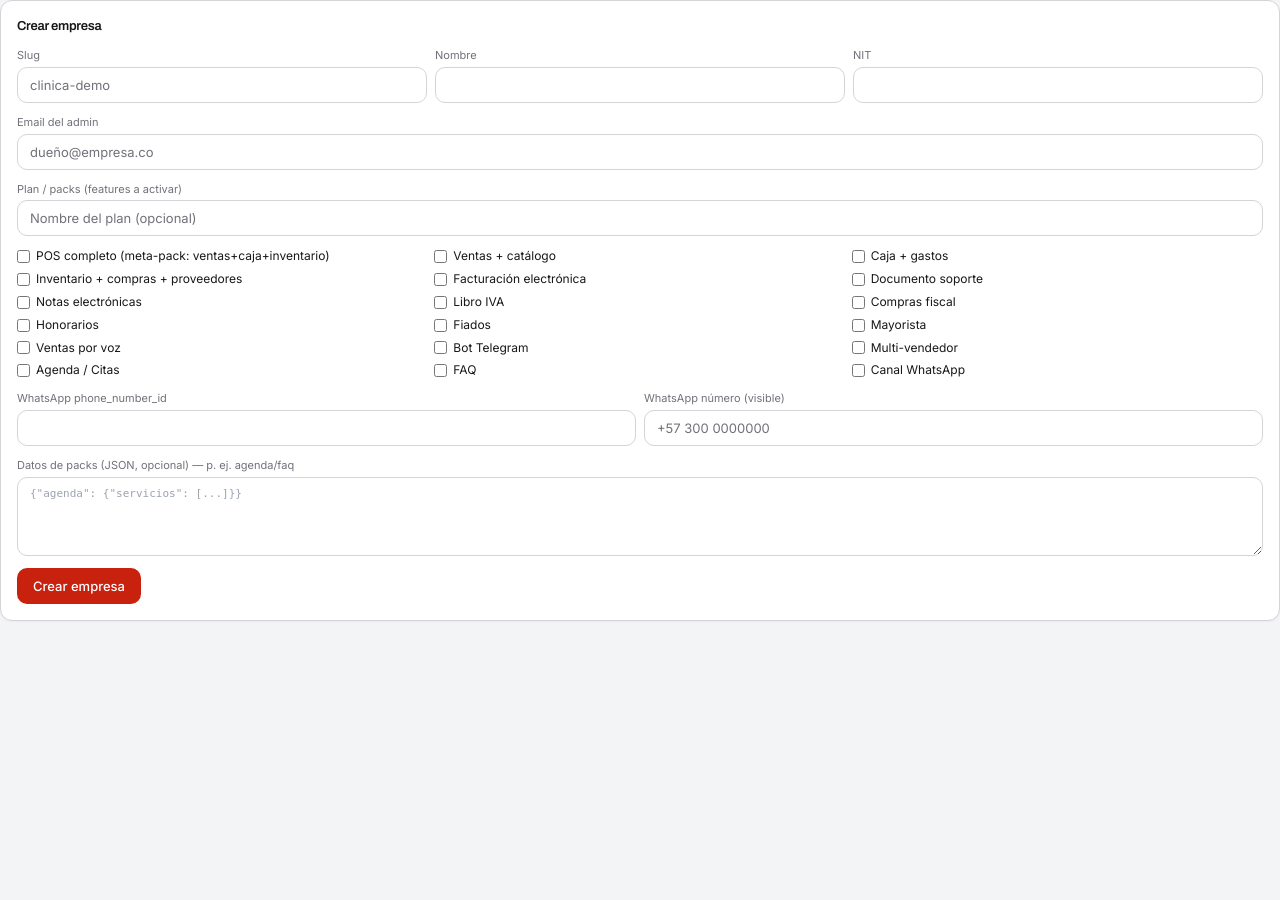
CrearTenantForm (arma manifiesto + encola + polling) › arma el manifiesto, postea a /admin/tenants y al hacer polling muestra ok + resumen
Type "clinica-x" into the field labelled "Slug" at (222, 85), box x1=17 y1=67 x2=427 y2=103
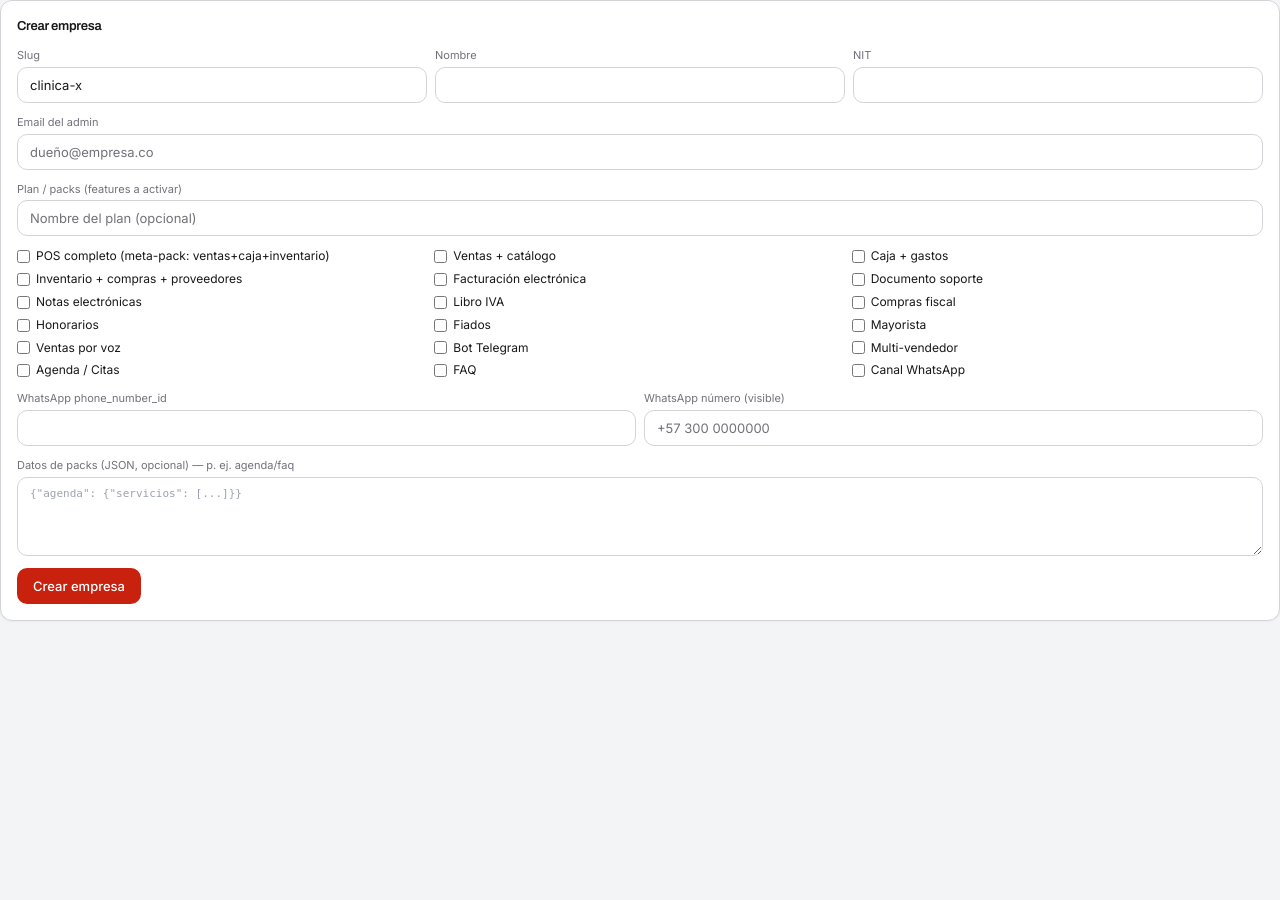
Type "Clínica X" into the field labelled "Nombre" at (640, 85), box x1=435 y1=67 x2=845 y2=103
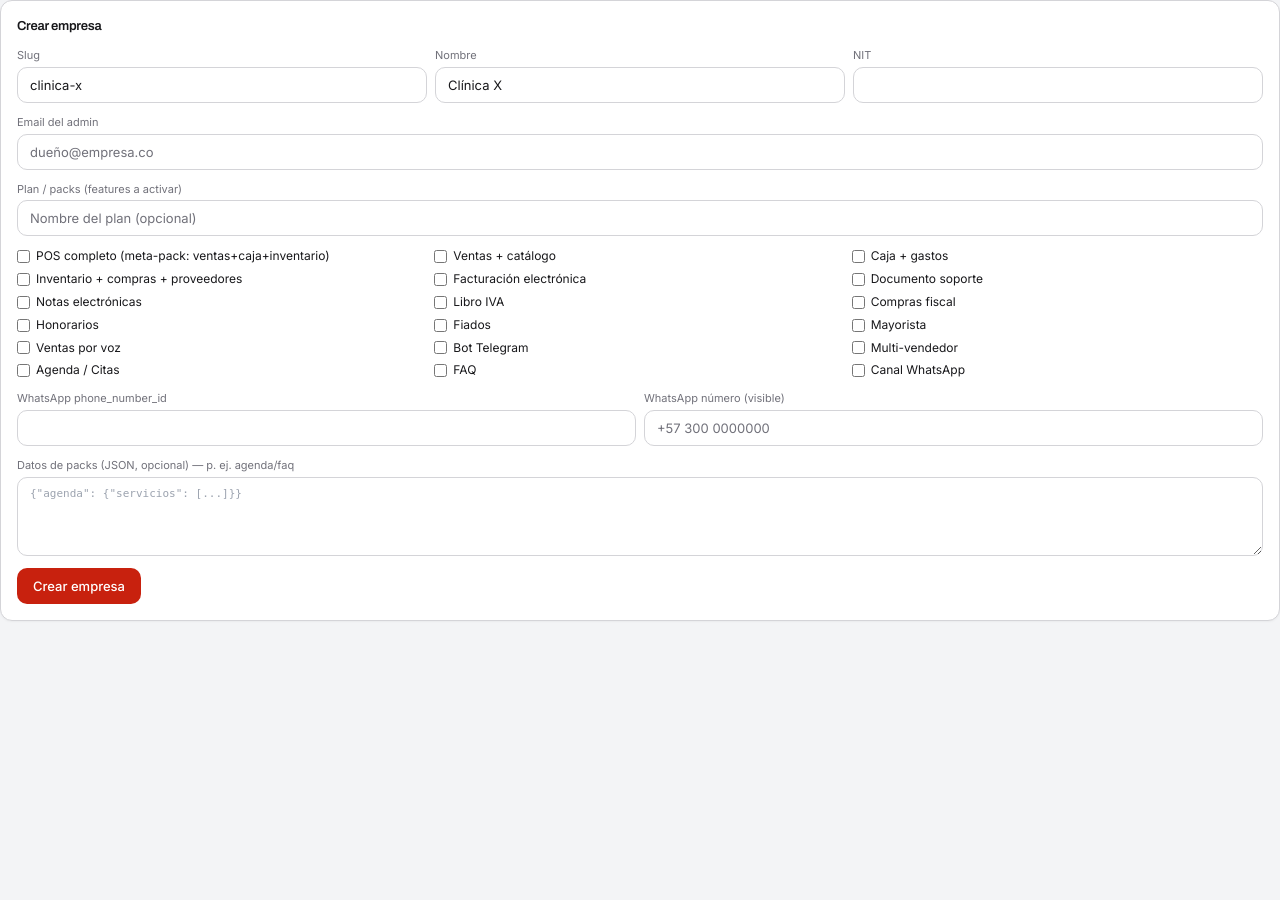
Type "NIT-9" into the field labelled "NIT" at (1058, 85), box x1=853 y1=67 x2=1263 y2=103
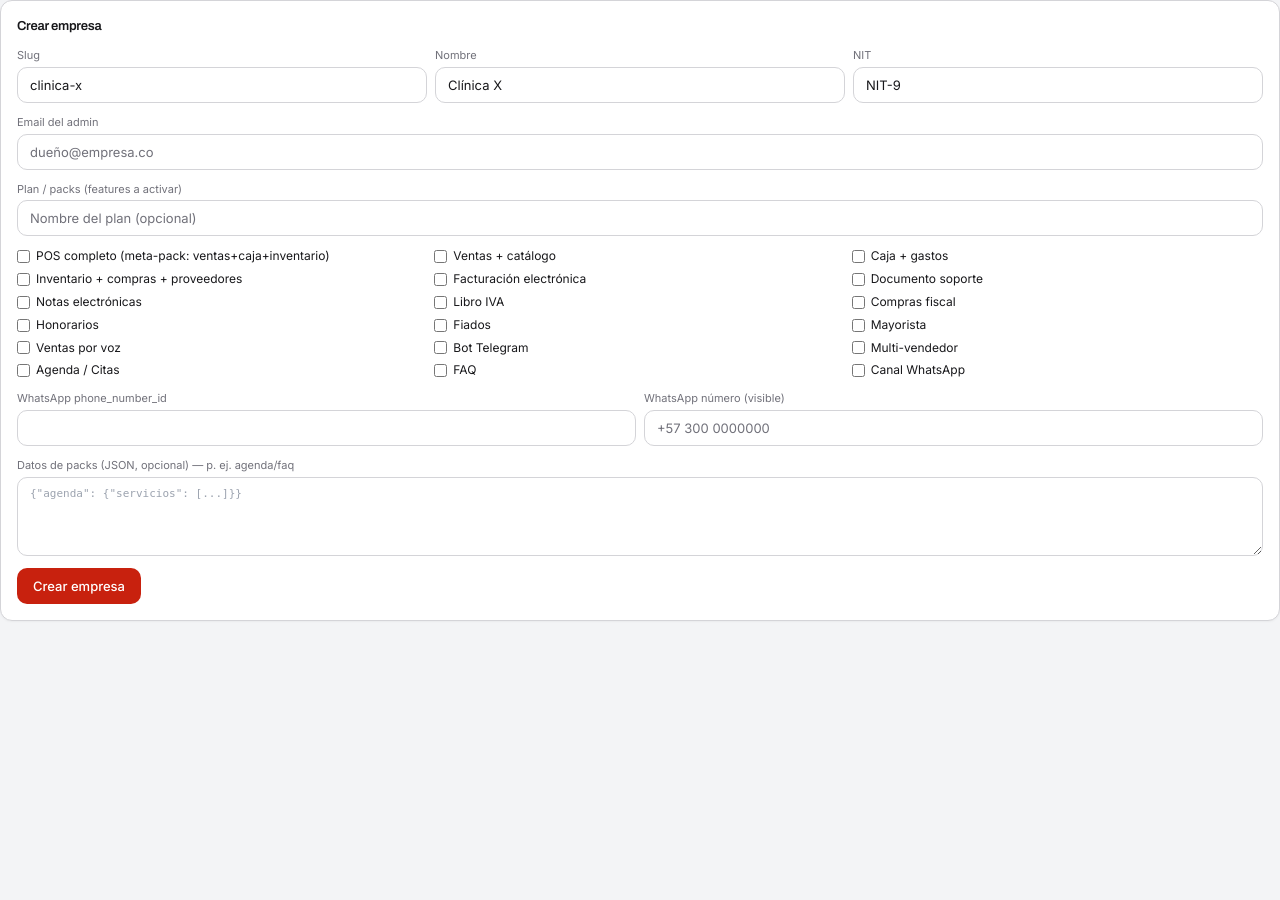
Type "due@x.co" into the field labelled "Email del admin" at (640, 152), box x1=17 y1=134 x2=1263 y2=170
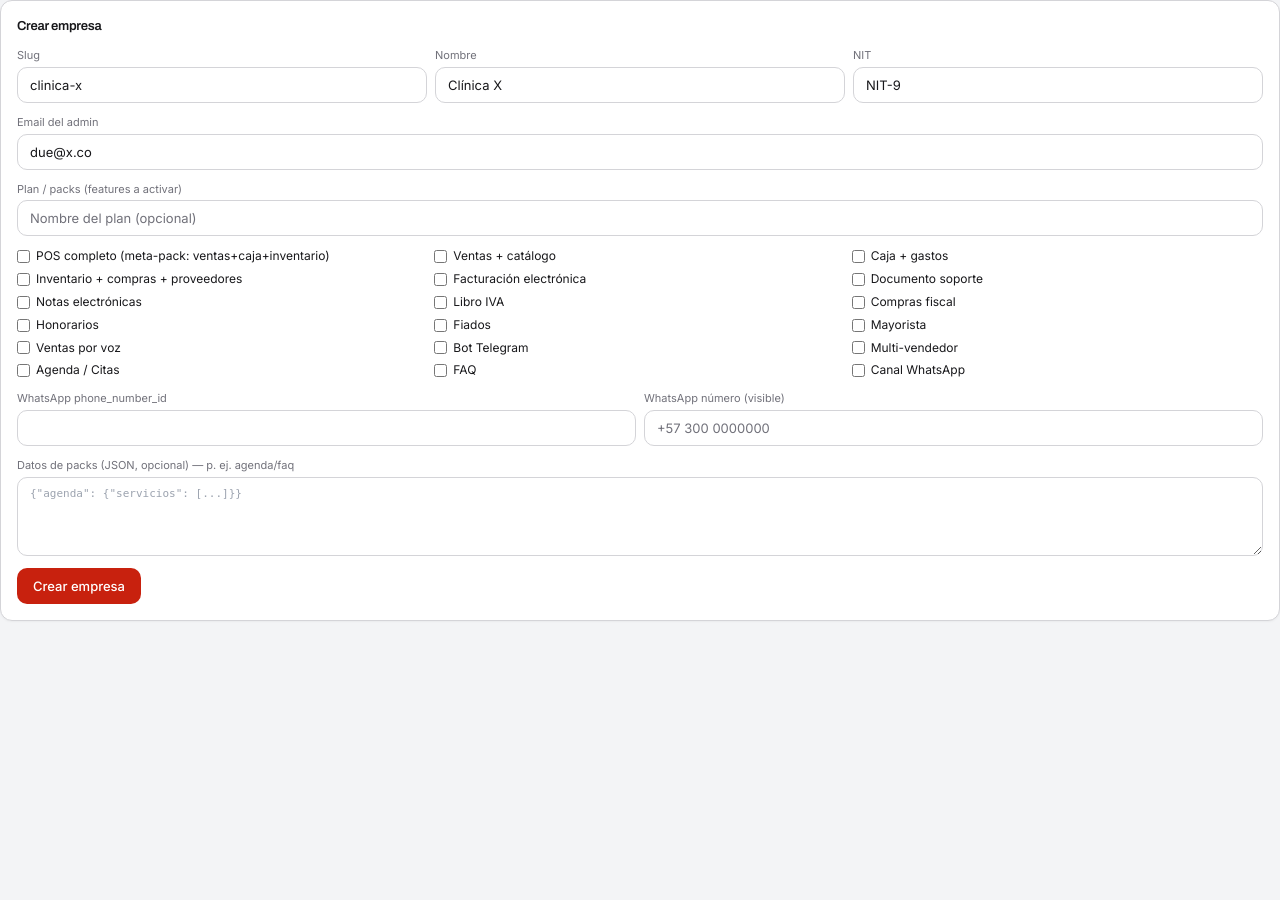
Click the checkbox labelled "POS completo (meta-pack: ventas+caja+inventario)" at (24, 257), box x1=17 y1=250 x2=30 y2=263
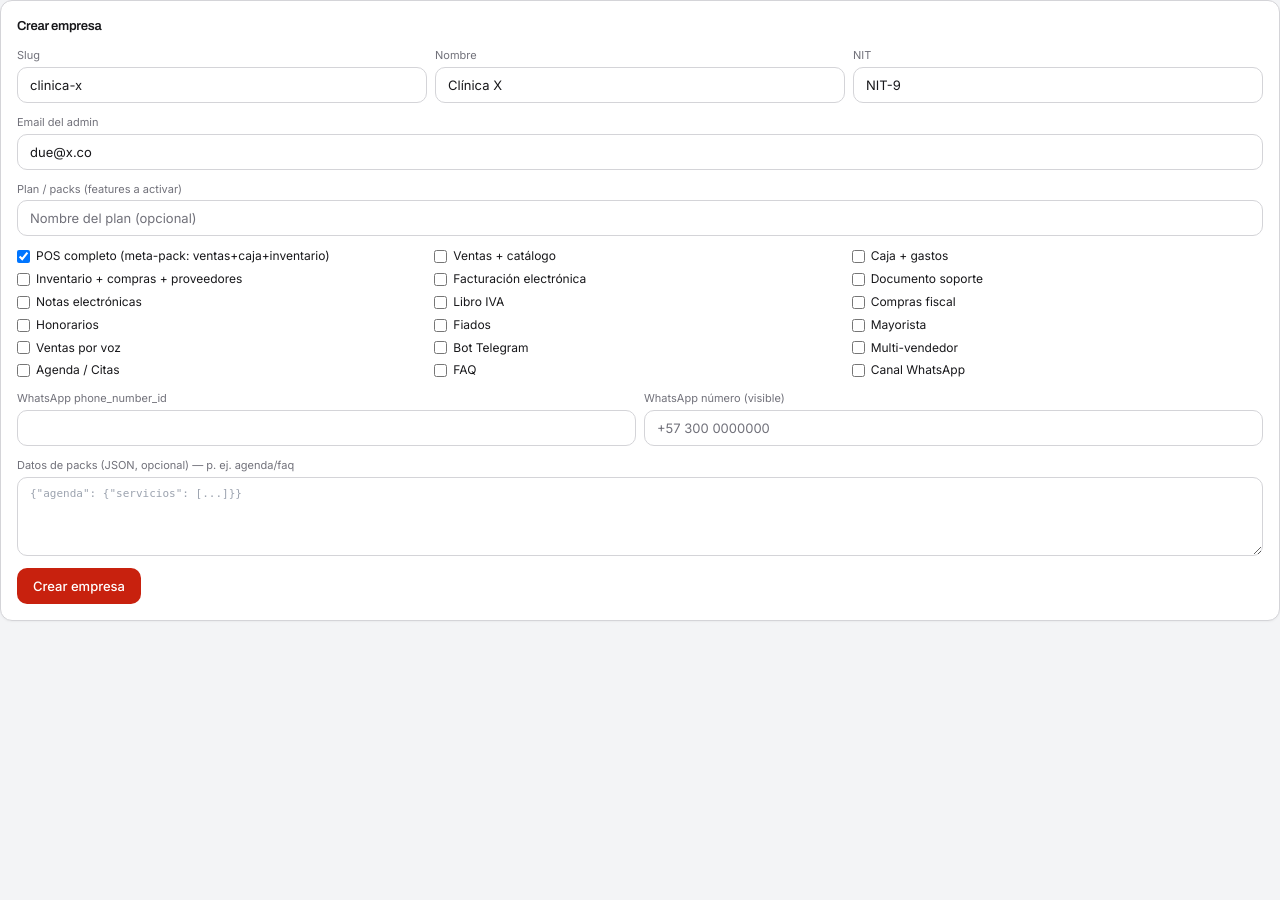
Click the button "Crear empresa" at (79, 586), box x1=17 y1=568 x2=141 y2=604
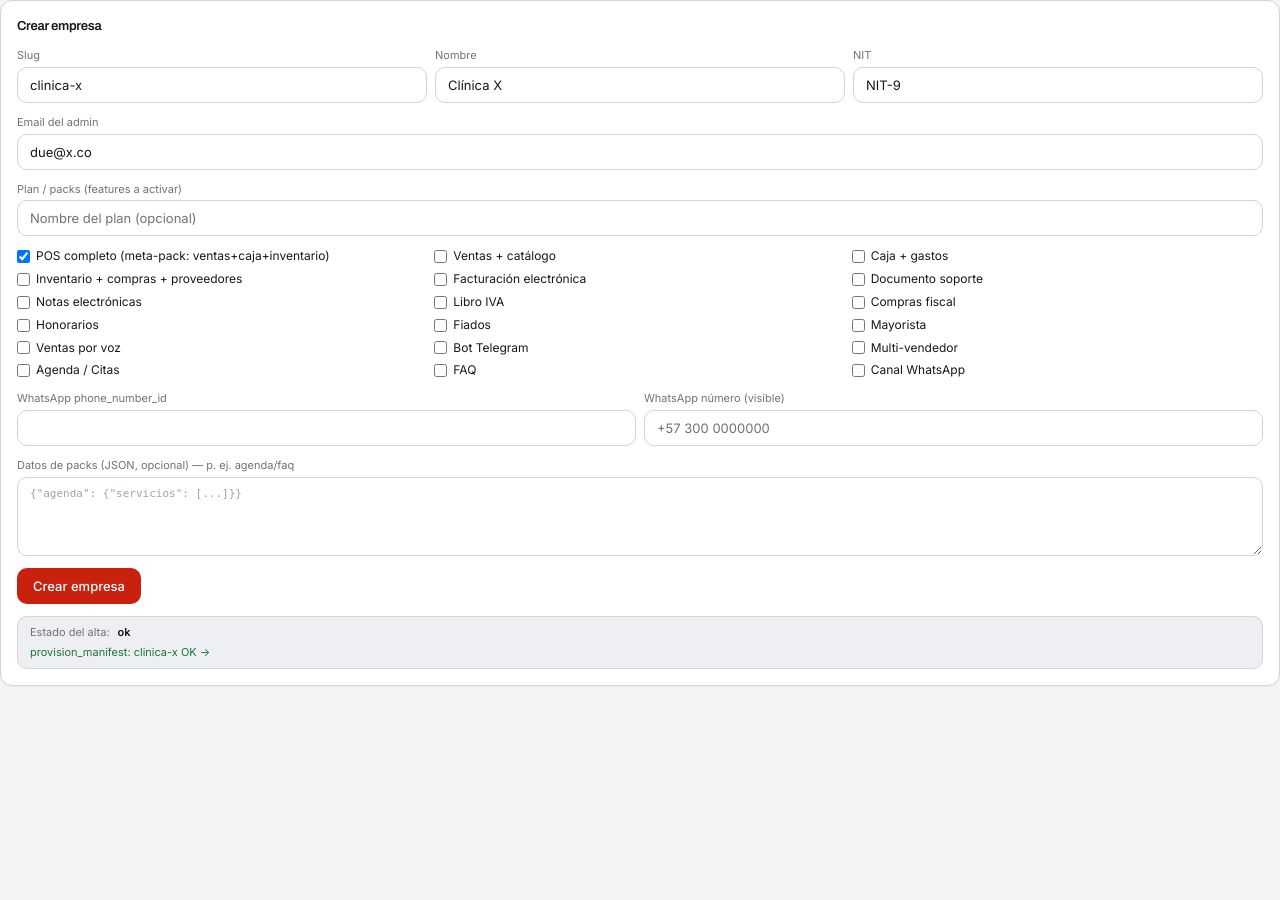
expect the text "provision_manifest: clinica-x OK ->" is shown: met, box x1=30 y1=645 x2=210 y2=659
